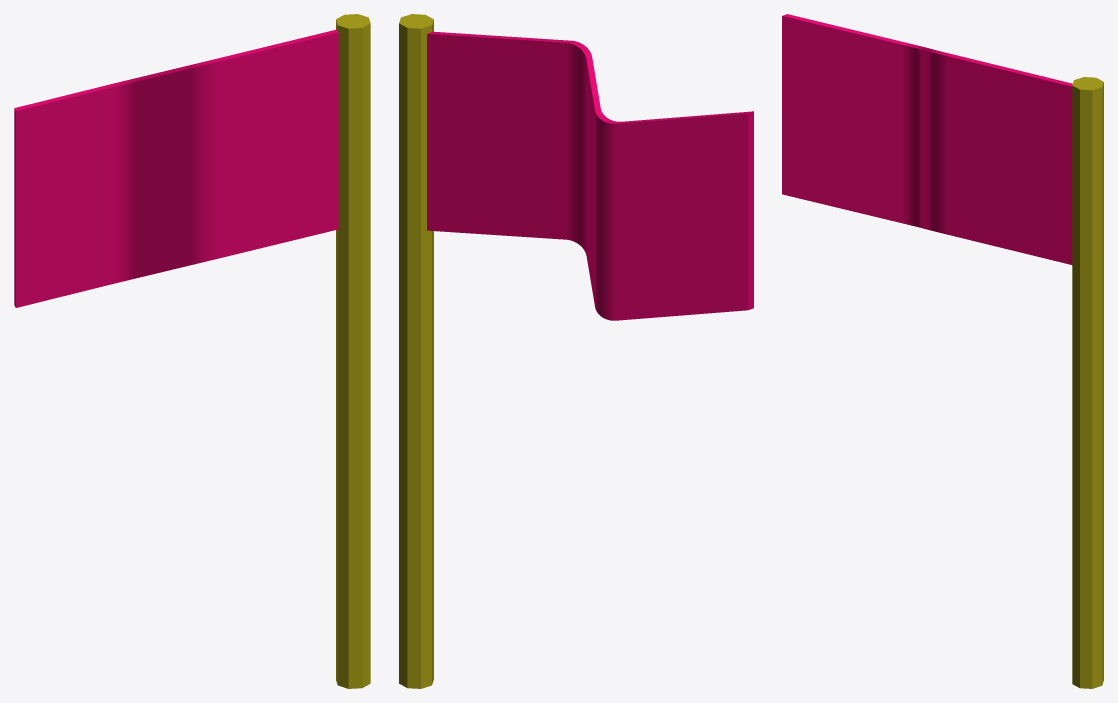
Rendered from redFlag.fbx.
3 renders of one model, left to right at view 1: azimuth 30°, elevation 25°; view 2: azimuth 150°, elevation 25°; view 3: azimuth 330°, elevation 25°, orthographic. The views are drawn at different scales.
Parts seen in each view (by area): view 1: Plane.001, red flag; view 2: Plane.001, red flag; view 3: Plane.001, red flag.
Part boxes in pixels (x1=…): Plane.001: x1=14, y1=29, x2=338, y2=307; red flag: x1=336, y1=14, x2=370, y2=688; Plane.001: x1=427, y1=31, x2=753, y2=320; red flag: x1=399, y1=14, x2=433, y2=688; Plane.001: x1=782, y1=14, x2=1072, y2=264; red flag: x1=1072, y1=77, x2=1103, y2=688.
Size of the model in its own units: 1401 by 2526 by 274.
